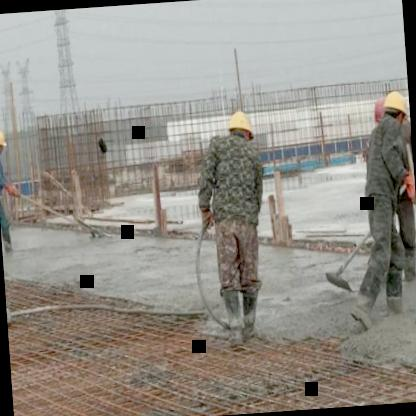helmet: (224, 106, 258, 152), (378, 89, 409, 133), (0, 126, 8, 159)
